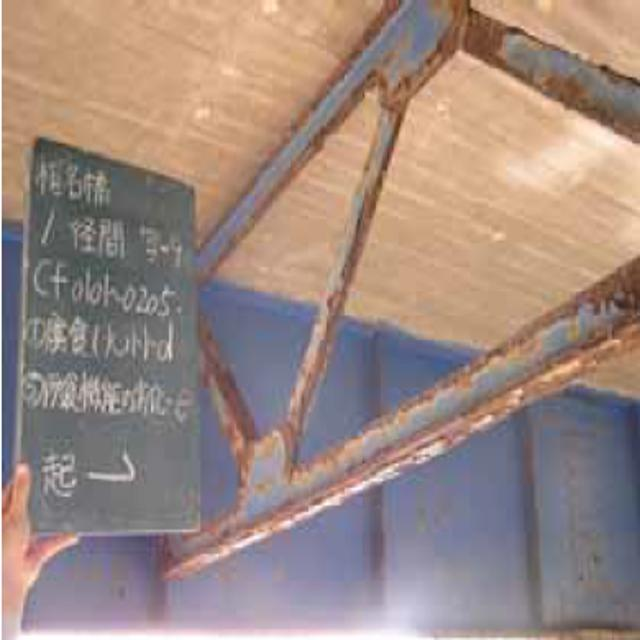corrosion: (193, 7, 638, 519)
